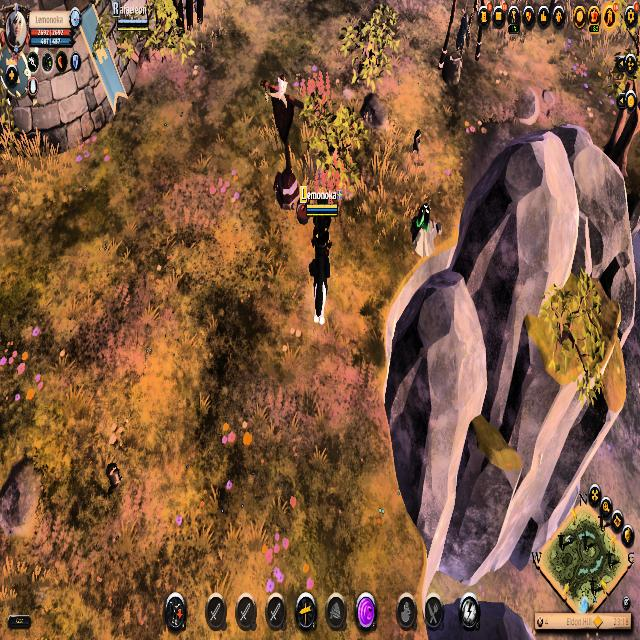ore tier 3: (408, 198, 438, 260)
